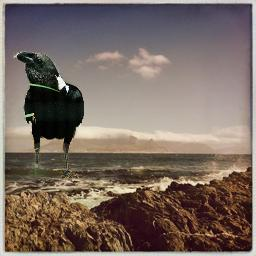Crow: (13, 51, 84, 180)
